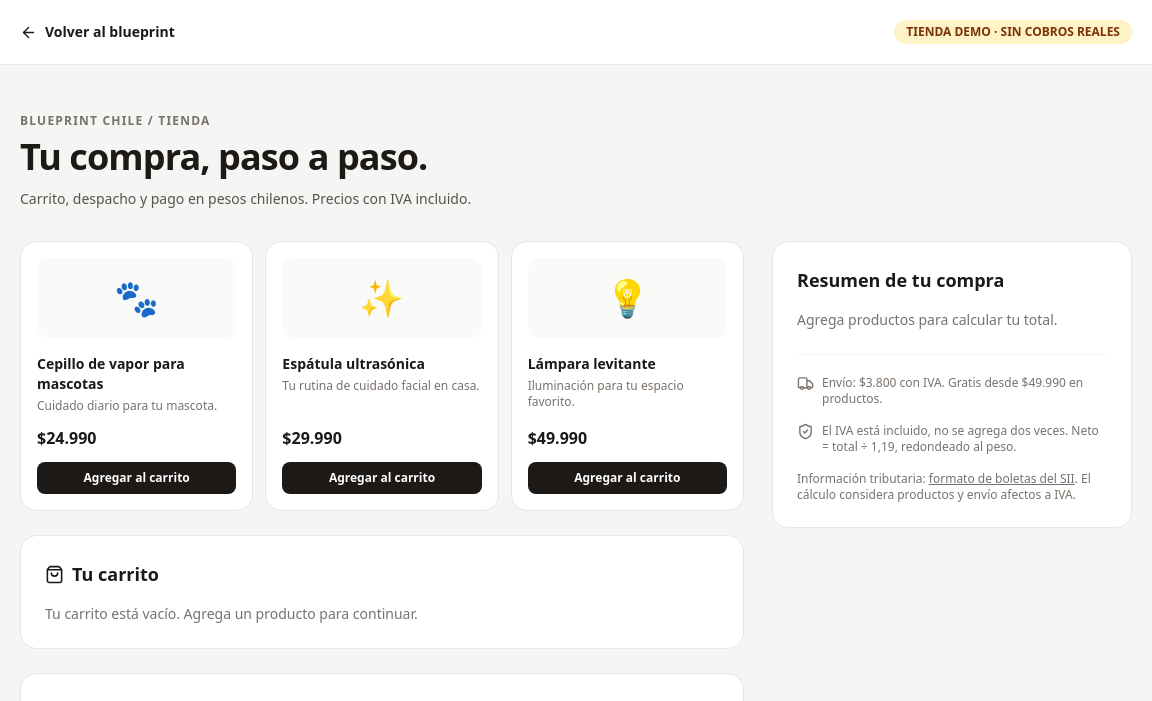
carrito persistido inválido null permite agregar y eliminar productos
Expected: the text "TIENDA DEMO · SIN COBROS REALES" is shown, top-left (894, 20), bottom-right (1132, 44)
Click the button with aria-label "Agregar Cepillo de vapor para mascotas": (137, 478) top-left (37, 462), bottom-right (236, 494)
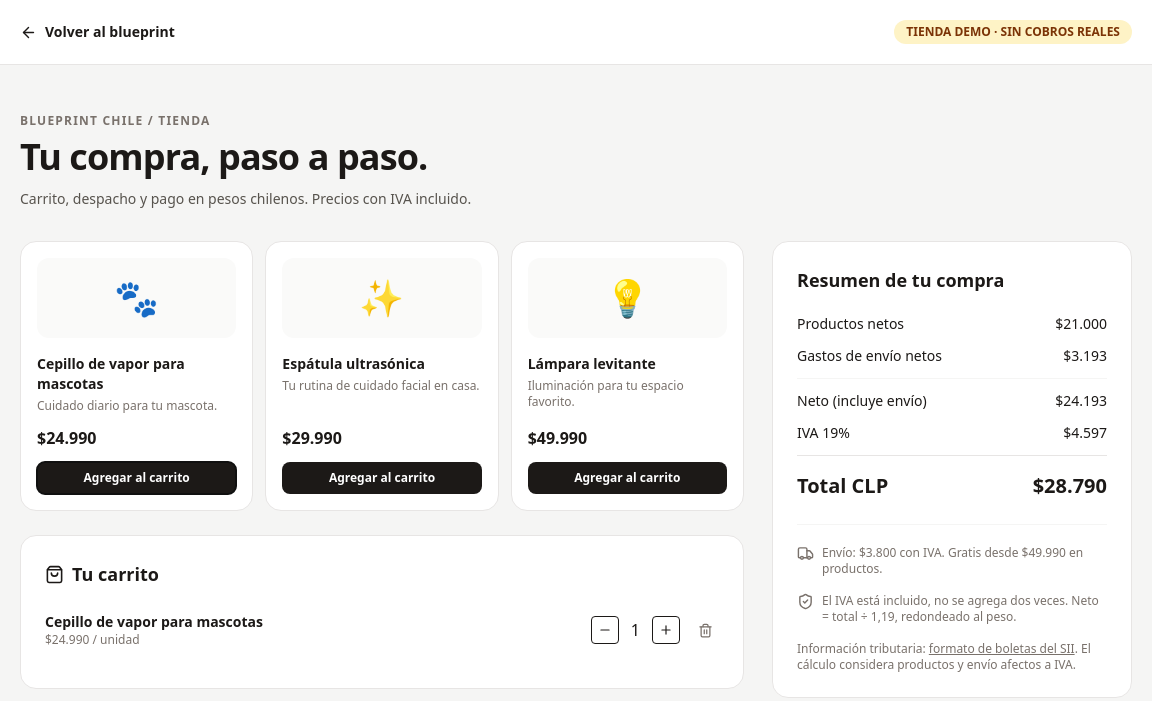
Expected: the text with test id "checkout-total" shows "28.790", top-left (1033, 472), bottom-right (1107, 499)
Click the button named "Eliminar Cepillo de vapor para mascotas": (706, 630) top-left (692, 616), bottom-right (719, 644)
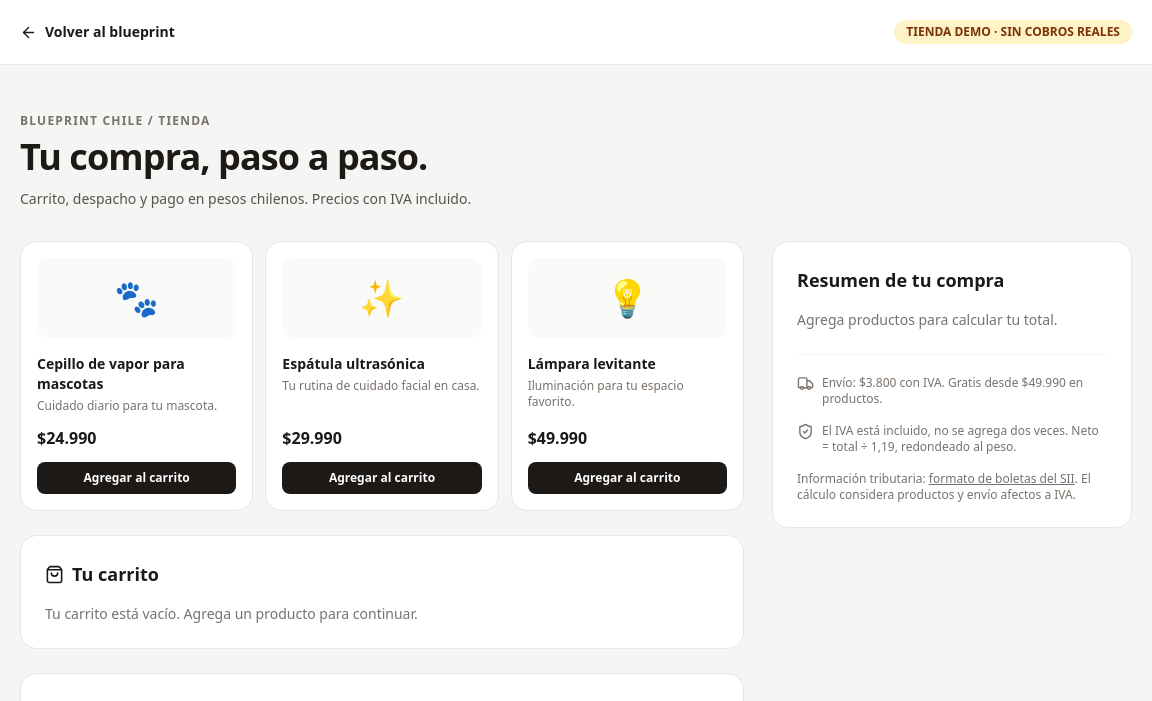
Expected: the text with test id "checkout-total" is gone
